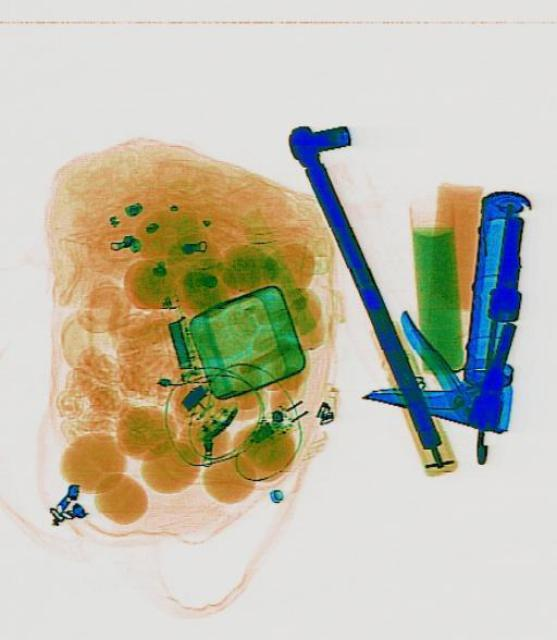Knife: (358, 175, 532, 432)
